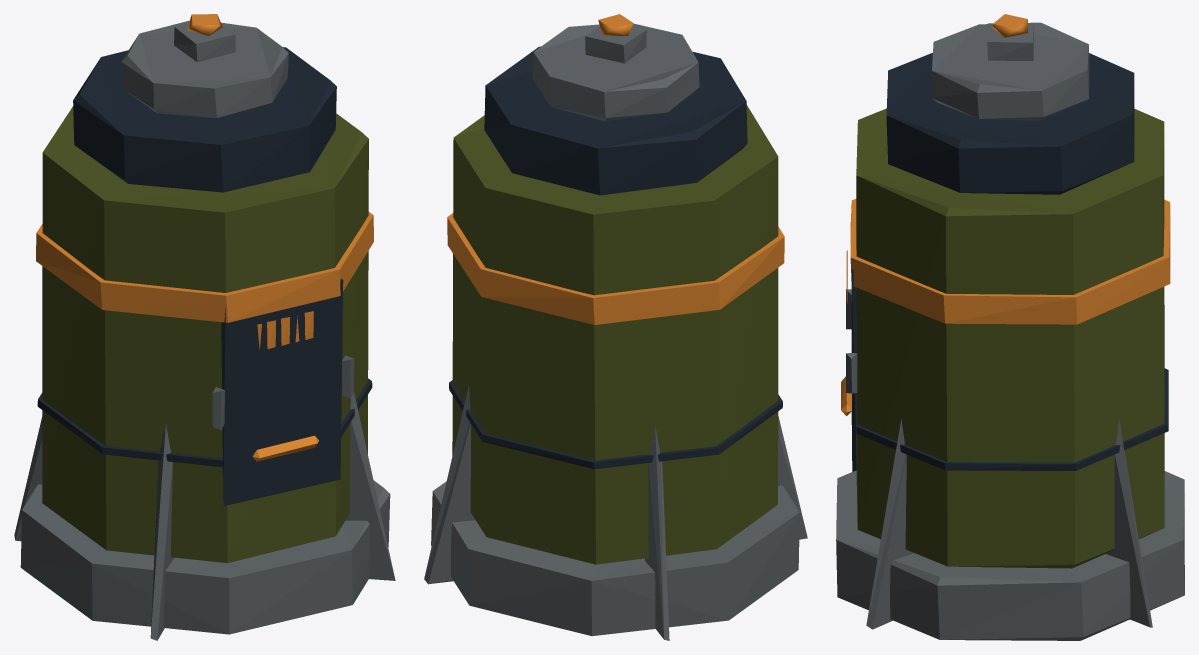
Rendered from supply_drop_pod_lod1.obj.
The picture shows the model from 3 angles, left to right: view 1: azimuth 30°, elevation 25°; view 2: azimuth 150°, elevation 25°; view 3: azimuth 270°, elevation 25°; orthographic projection.
Visible parts, largest first — view 1: supply_drop_pod_lod1; view 2: supply_drop_pod_lod1; view 3: supply_drop_pod_lod1.
Boxes of the visible parts, x1,y1,x2,y2 form: supply_drop_pod_lod1: [14, 14, 395, 640]; supply_drop_pod_lod1: [424, 14, 807, 640]; supply_drop_pod_lod1: [836, 14, 1184, 640].
Size of the model in its own units: 1.38 by 2.4 by 1.38.
